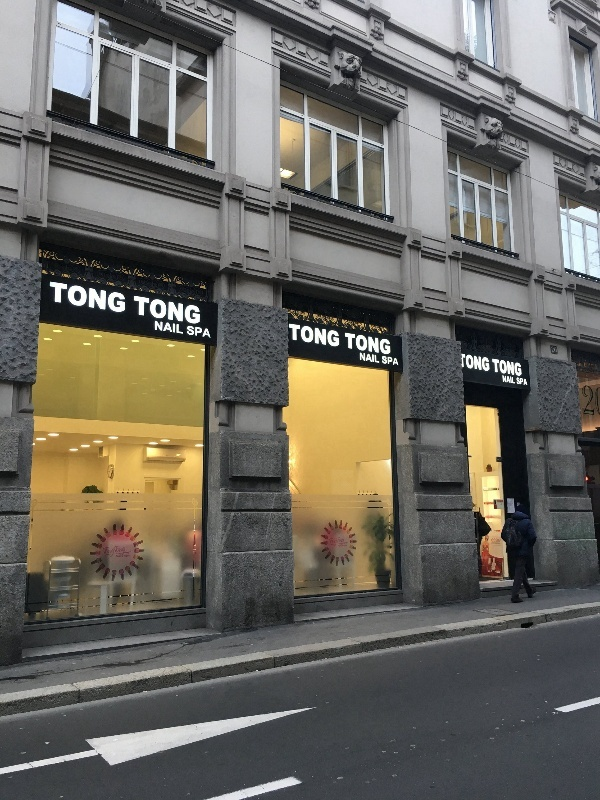text: (49, 279, 64, 315), (65, 279, 80, 315), (81, 279, 96, 315), (97, 279, 112, 315), (113, 279, 126, 315), (145, 295, 160, 326), (161, 295, 176, 326), (177, 295, 192, 326), (289, 323, 304, 349), (305, 323, 320, 349), (321, 323, 336, 349), (353, 332, 368, 356), (369, 332, 384, 356), (582, 385, 592, 417), (134, 295, 144, 326), (465, 353, 480, 373), (497, 358, 512, 378), (193, 295, 201, 326), (161, 320, 176, 335), (193, 325, 208, 339), (513, 358, 523, 378), (113, 545, 128, 558), (481, 353, 490, 373), (345, 332, 352, 356), (385, 332, 392, 356), (385, 355, 399, 366), (595, 386, 600, 416), (369, 352, 380, 364), (177, 320, 185, 335), (502, 374, 512, 386), (103, 545, 112, 558), (516, 377, 528, 386), (337, 538, 348, 547), (360, 352, 368, 364), (492, 358, 496, 378), (337, 323, 340, 349), (155, 320, 160, 335), (551, 346, 560, 354), (187, 325, 192, 339), (593, 385, 595, 417), (329, 538, 336, 547), (209, 325, 212, 339), (462, 353, 464, 373), (513, 374, 516, 386), (382, 355, 384, 366), (492, 538, 496, 543), (497, 538, 501, 543), (129, 545, 130, 558)
